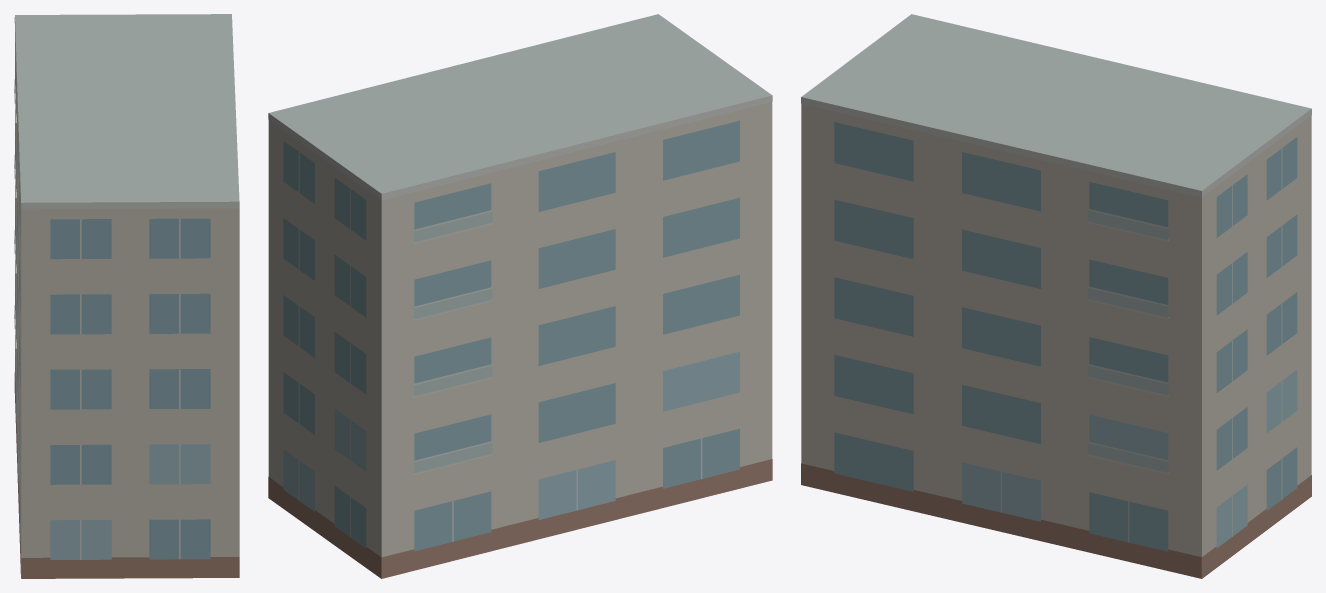
Rendered from survey-upis-33020246.glb.
3 views of the same model, side by side, from view 1: azimuth 30°, elevation 25°; view 2: azimuth 150°, elevation 25°; view 3: azimuth 270°, elevation 25° (orthographic). The views are drawn at different scales.
Parts seen in each view (by area): view 1: survey-upis-33020246.tmp; view 2: survey-upis-33020246.tmp; view 3: survey-upis-33020246.tmp.
Boxes of the visible parts, x1,y1,x2,y2 form: survey-upis-33020246.tmp: (14, 14, 239, 578); survey-upis-33020246.tmp: (268, 14, 772, 578); survey-upis-33020246.tmp: (801, 14, 1311, 578).
Size of the model in its own units: 13.95 by 14.25 by 17.01.
